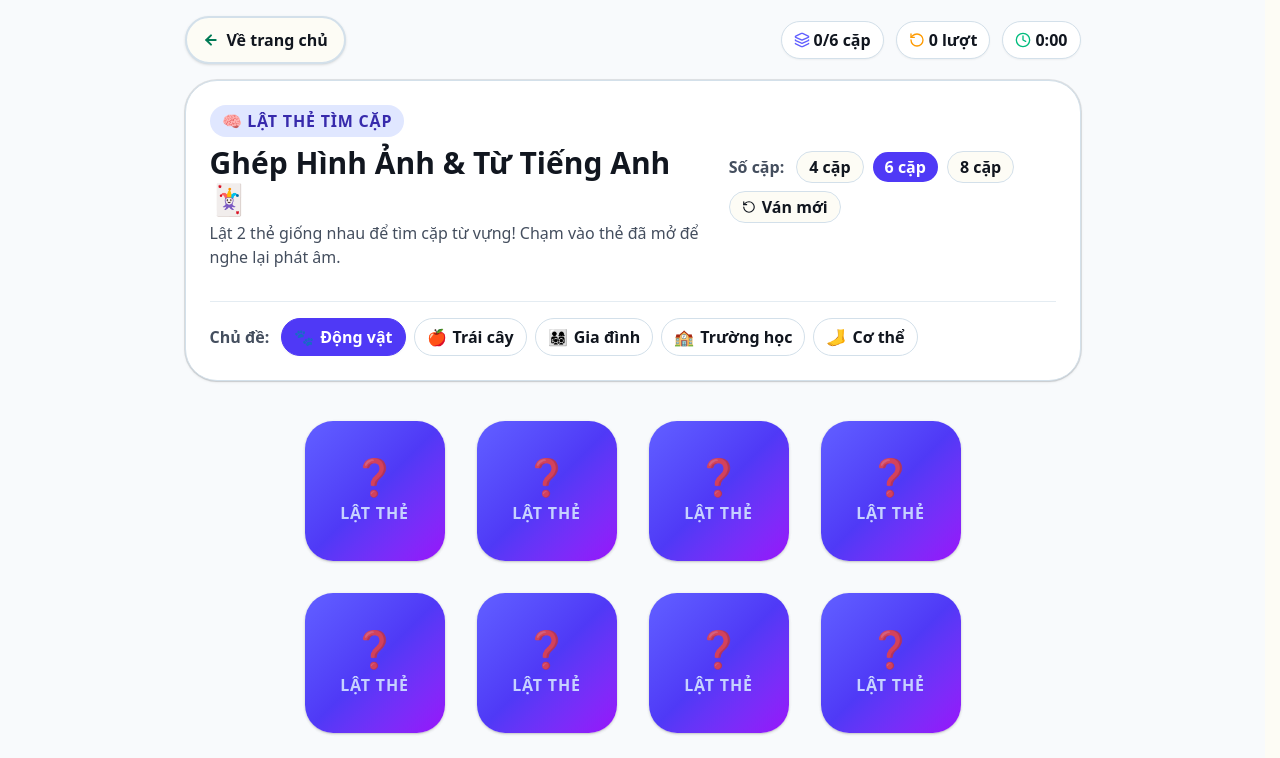
Scenario: Memory Match Game Page (src/app/games/memory-match/page.tsx) › allows changing pair count to 4 pairs or 8 pairs
What coordinates should you click on to do the following:
click the button "4 cặp"
I would click on:
 (830, 167)
Its box is 796,151 -> 864,183.
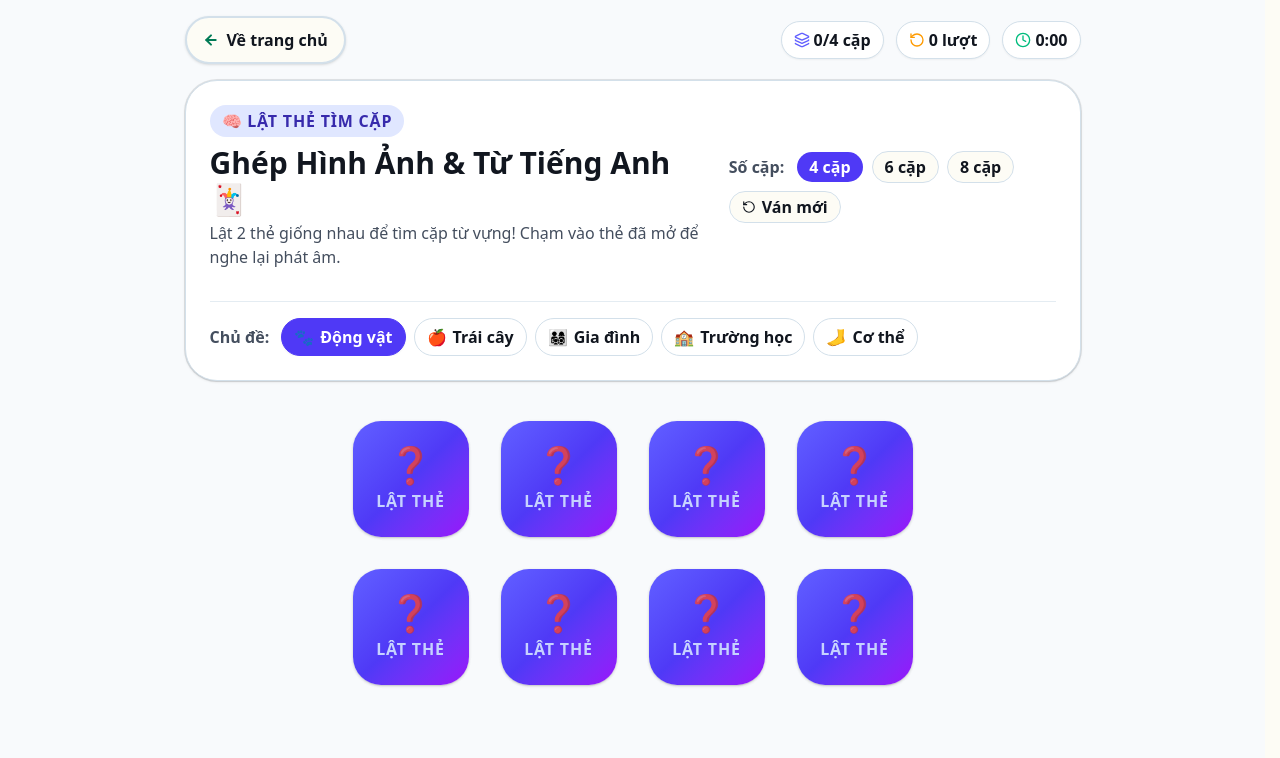
Expected: the text "0/4 cặp" is shown, 814,28 -> 871,52
Expected: the number of buttons named "Thẻ úp" is 8
What coordinates should you click on to do the following:
click the button "8 cặp"
I would click on:
 (981, 167)
Its box is 947,151 -> 1014,183.
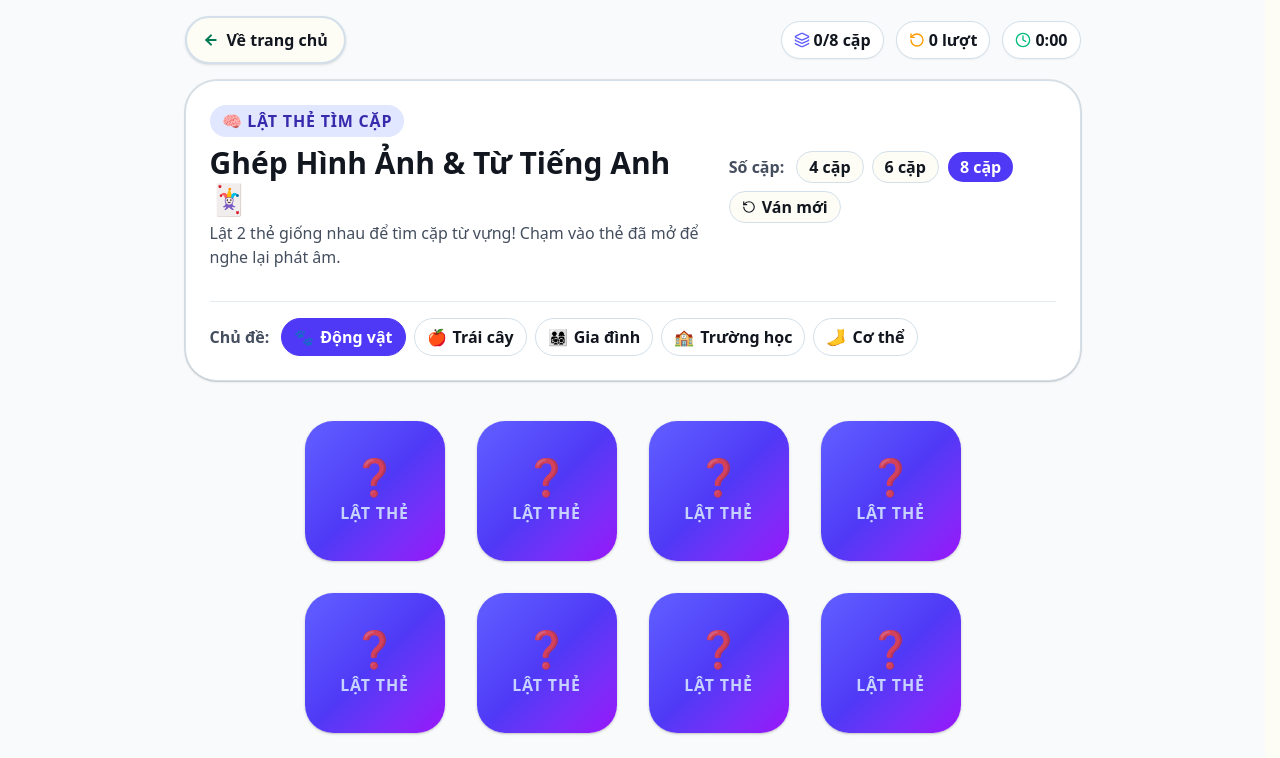
Expected: the text "0/8 cặp" is shown, 814,28 -> 871,52
Expected: the number of buttons named "Thẻ úp" is 16
